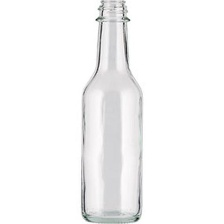bottle: (76, 0, 150, 223)
